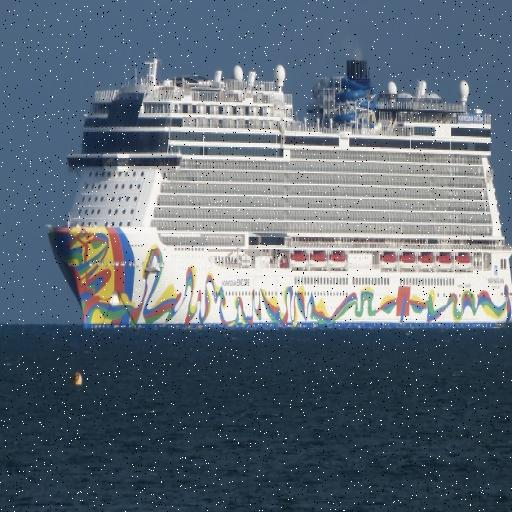cruises: (45, 34, 512, 341)
